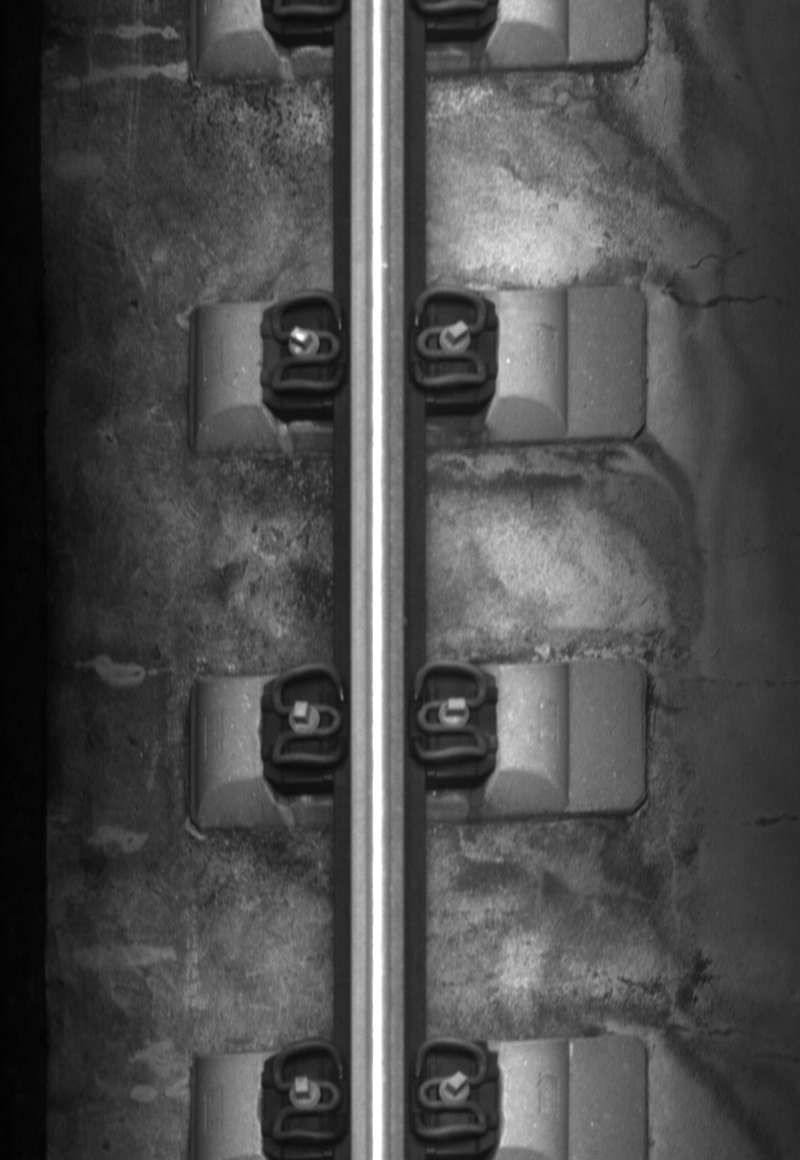l_faster: (262, 1034, 348, 1152), (265, 286, 349, 400), (266, 661, 349, 776)
r_faster: (406, 1030, 494, 1147), (407, 656, 492, 769), (408, 285, 491, 391)
